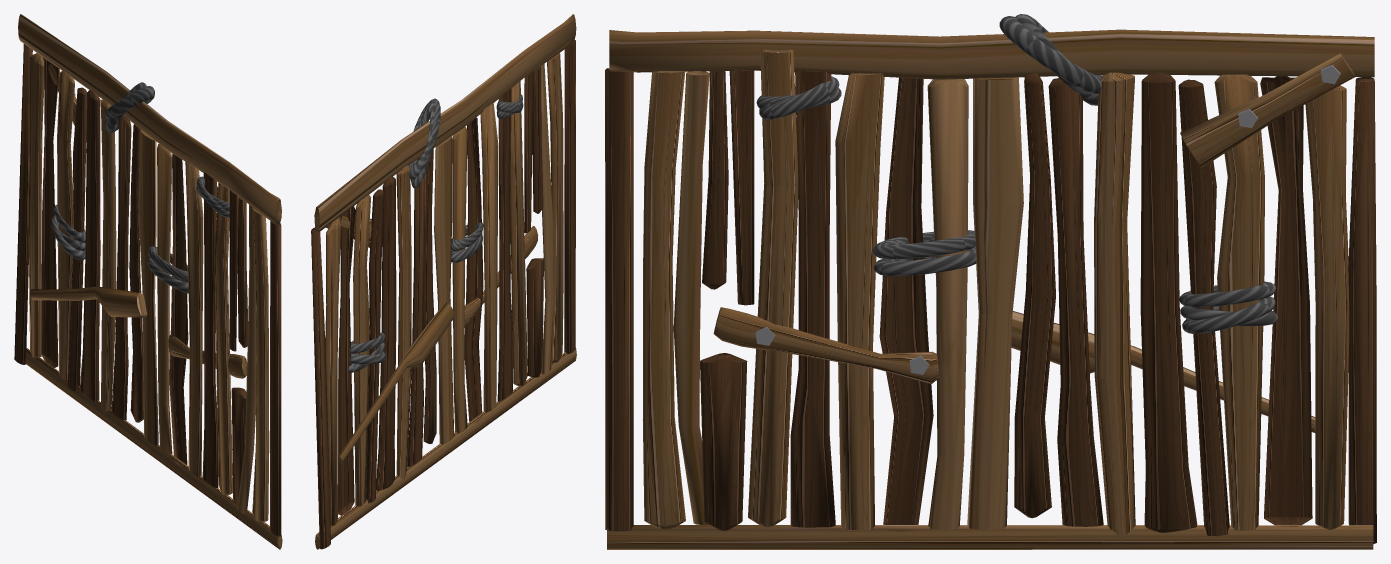
The model's file is wall.glb.
3 views of the same model, side by side, from view 1: azimuth 30°, elevation 25°; view 2: azimuth 150°, elevation 25°; view 3: azimuth 270°, elevation 25° (orthographic). The views are drawn at different scales.
Visible parts, largest first — view 1: Cylinder; view 2: Cylinder; view 3: Cylinder.
Part boxes in pixels (x1,y1,x2,y2): Cylinder: [14, 14, 282, 549]; Cylinder: [311, 14, 576, 549]; Cylinder: [605, 14, 1376, 549].
Size of the model in its own units: 0.2838 by 4.14 by 5.38.
Materials: 4 (3 with a texture image).
